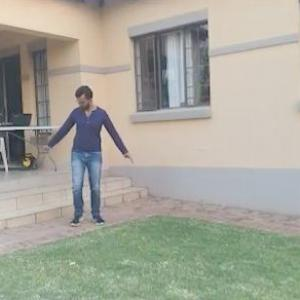land: (44, 84, 134, 226)
